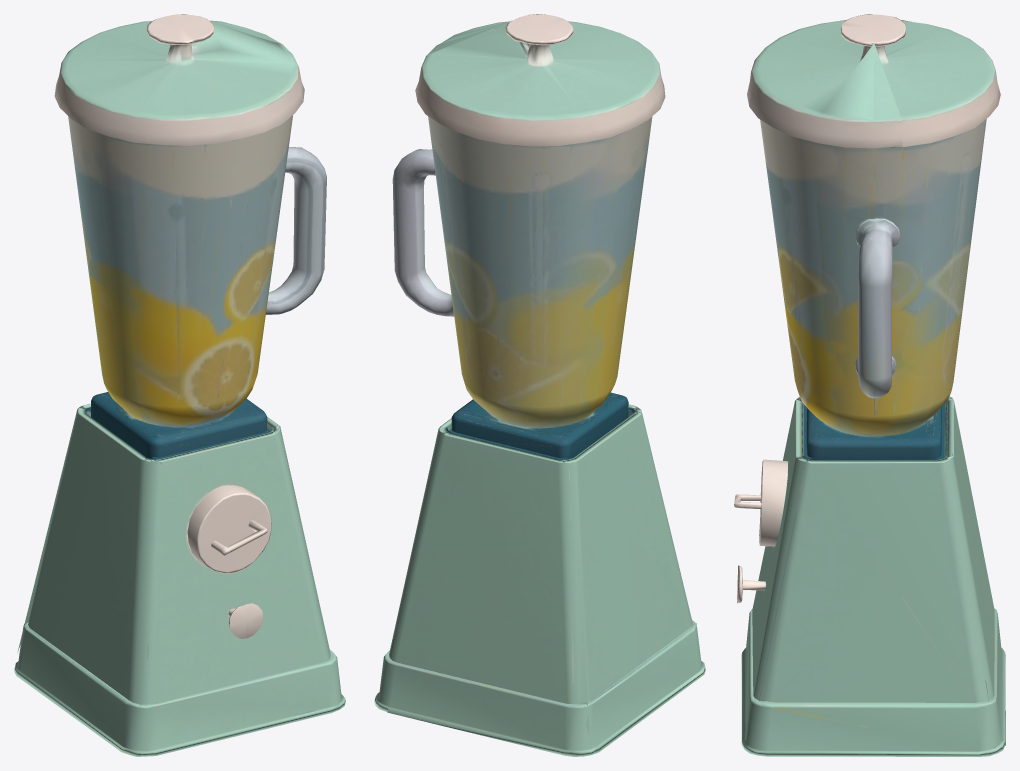
File: prop_kitchen_blender.glb
The picture shows the model from 3 angles, left to right: view 1: azimuth 30°, elevation 25°; view 2: azimuth 150°, elevation 25°; view 3: azimuth 270°, elevation 25°; orthographic projection. The views are drawn at different scales.
Bounding box in the file's own units: 0.4075 × 1 × 0.3658.
1 material, 1 textured.
